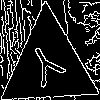Y: (23, 39, 72, 97)
